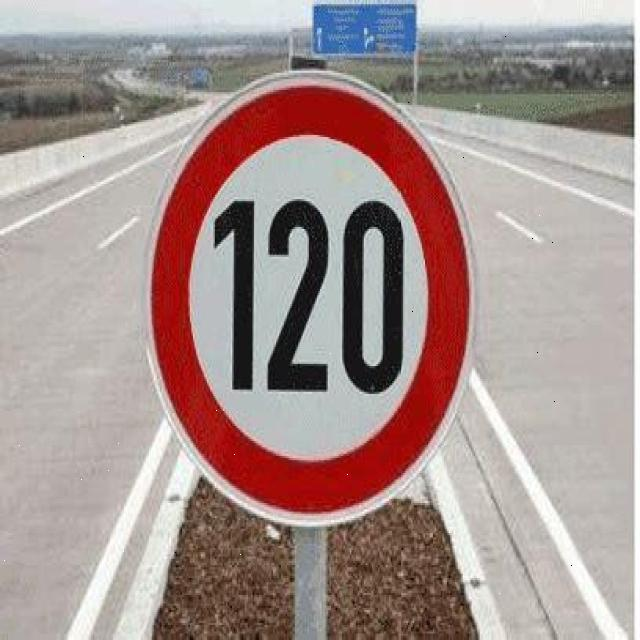speed limit 120: (143, 72, 472, 531)
